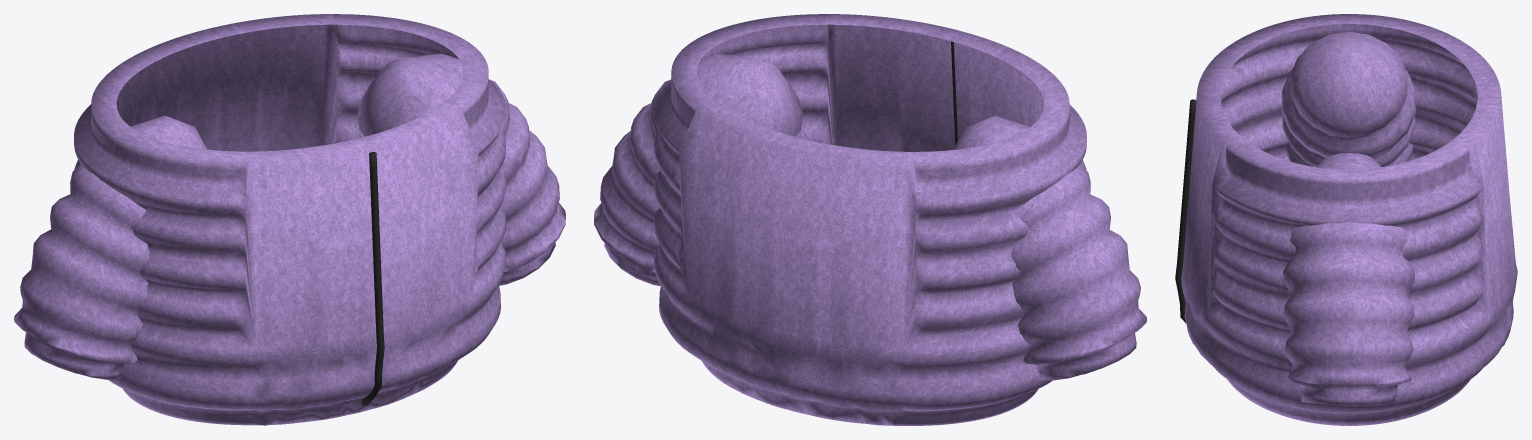
Rendered from puffer5.fbx.
The picture shows the model from 3 angles, left to right: view 1: azimuth 30°, elevation 25°; view 2: azimuth 150°, elevation 25°; view 3: azimuth 270°, elevation 25°; orthographic projection. The views are drawn at different scales.
Parts seen in each view (by area): view 1: puffer5; view 2: puffer5; view 3: puffer5.
Boxes of the visible parts, bbox=[...] form: puffer5: bbox=[14, 14, 565, 425]; puffer5: bbox=[594, 14, 1146, 425]; puffer5: bbox=[1175, 14, 1517, 425].
Size of the model in its own units: 1.31 by 0.6429 by 0.774.
Materials: 2 (1 with a texture image).
